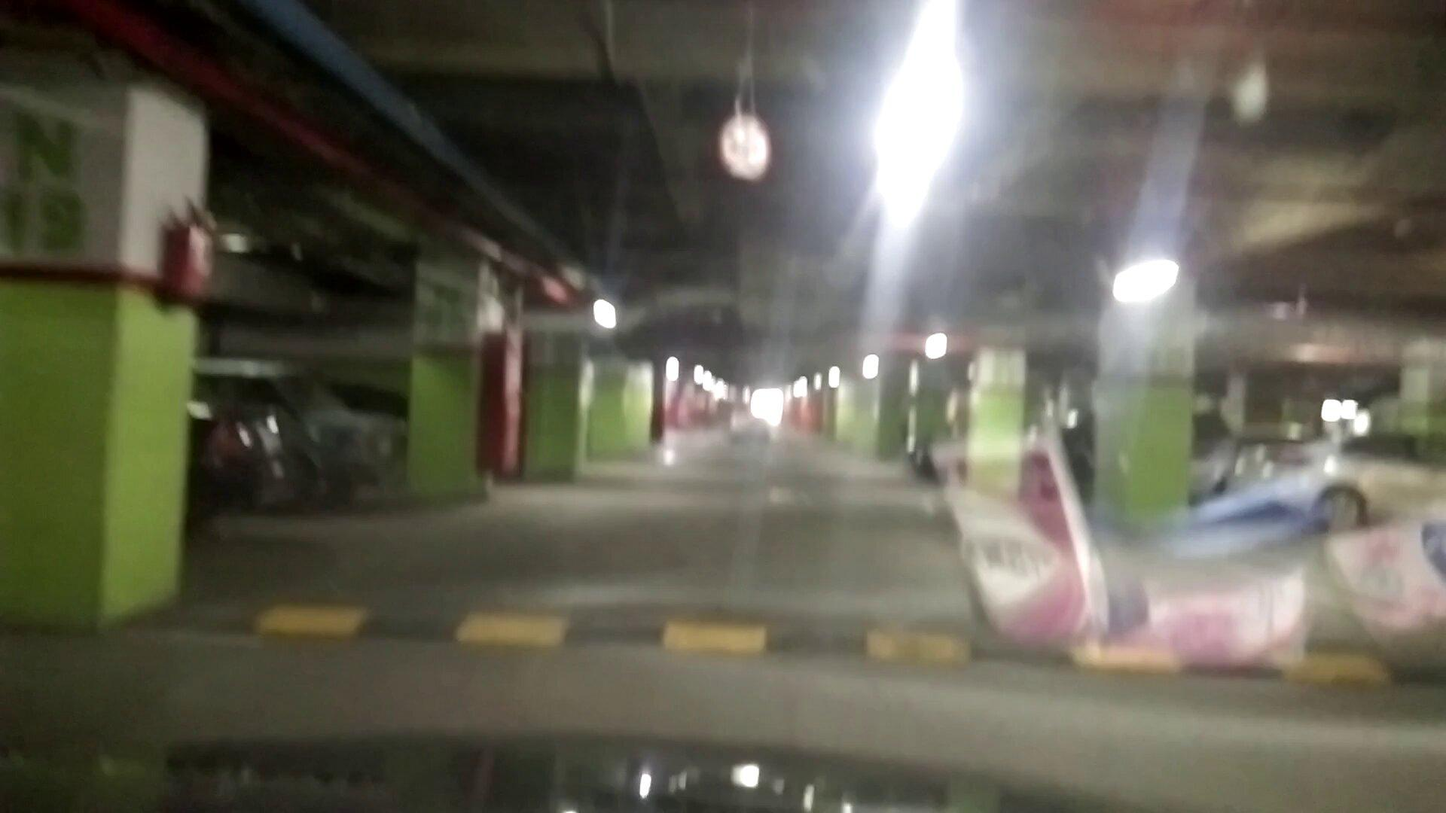Bump: (190, 583, 1446, 704)
